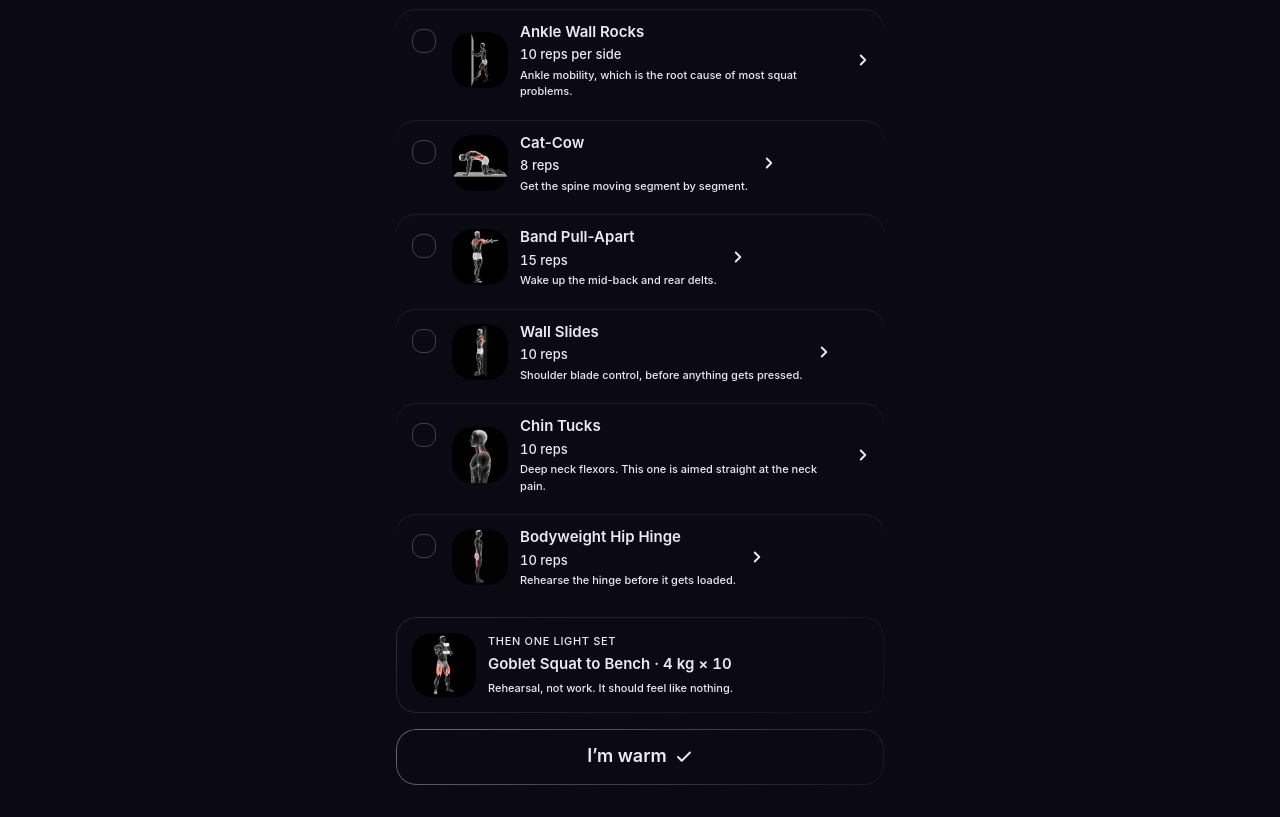
Test: working through an exercise › offers the second set after the rest
(page scrolled)
Click the button "I’m warm".
click(640, 757)  # box 396,729 -> 884,785
(page scrolled)
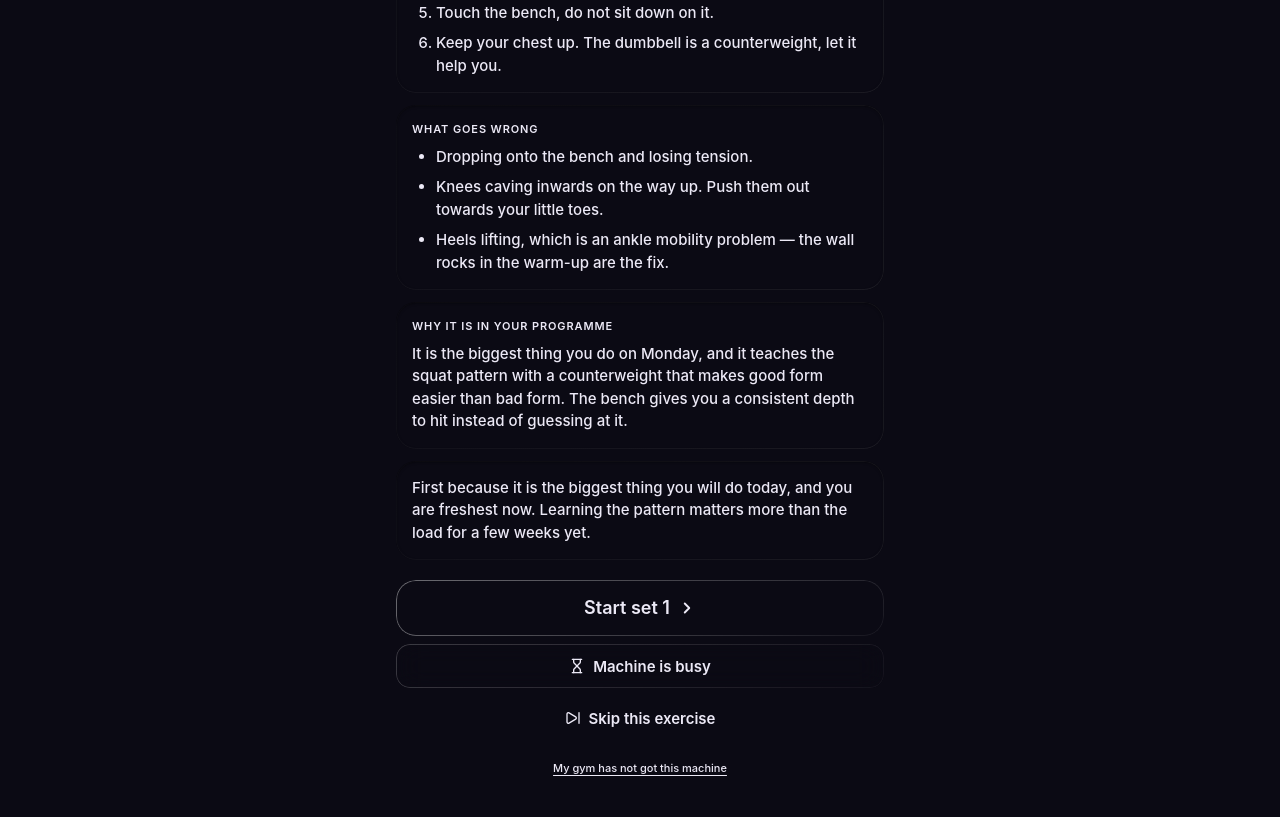
Click the button "Start set 1".
click(640, 608)  # box 396,580 -> 884,636
(page scrolled)
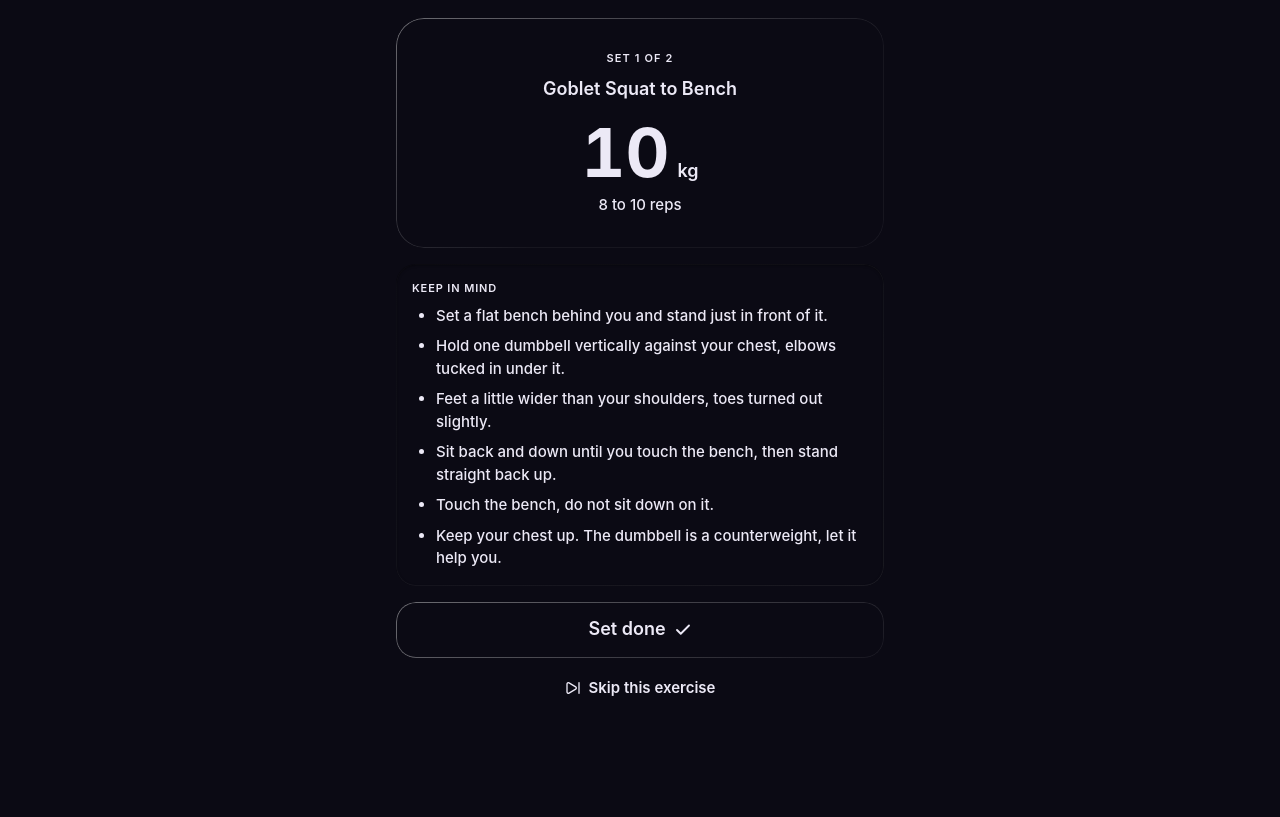
Click the button "Set done".
click(640, 630)  # box 396,602 -> 884,658
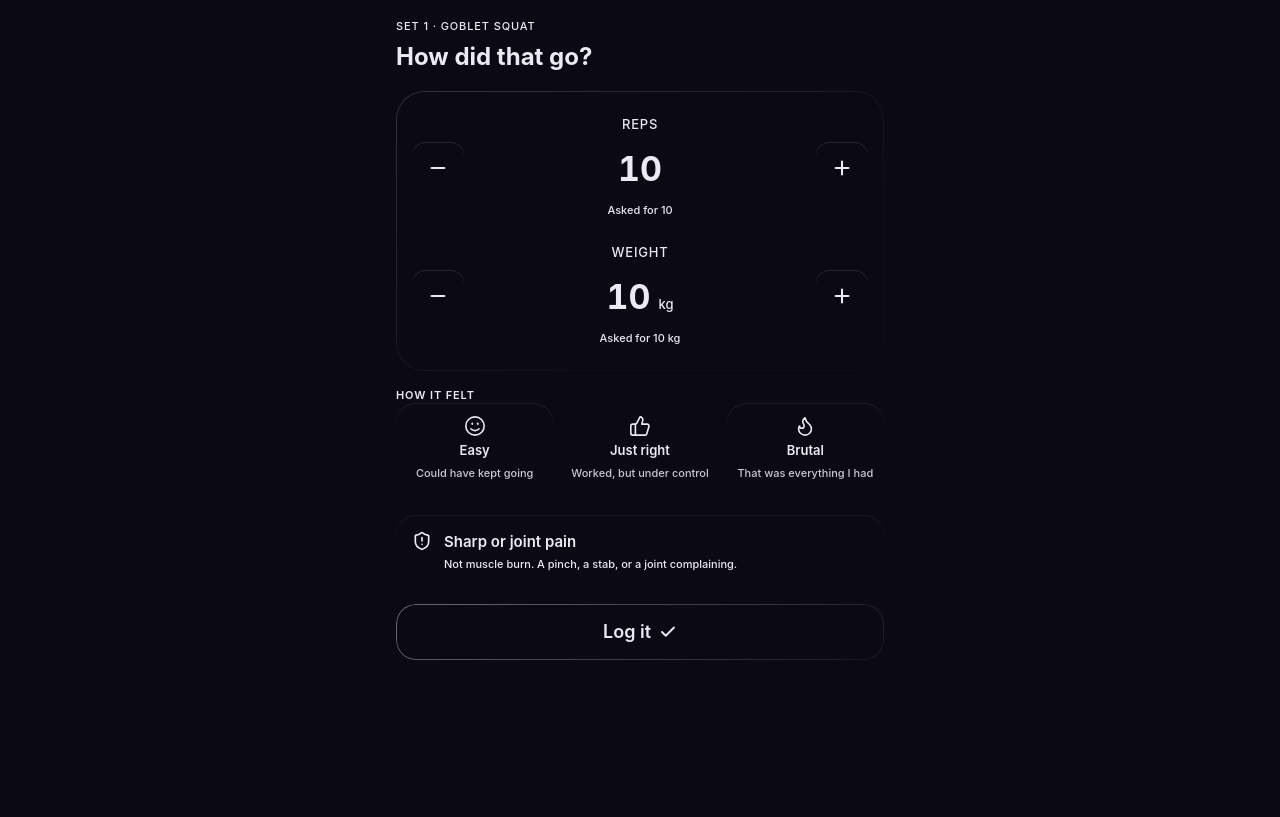
Click the button "Log it".
click(640, 632)  # box 396,604 -> 884,660
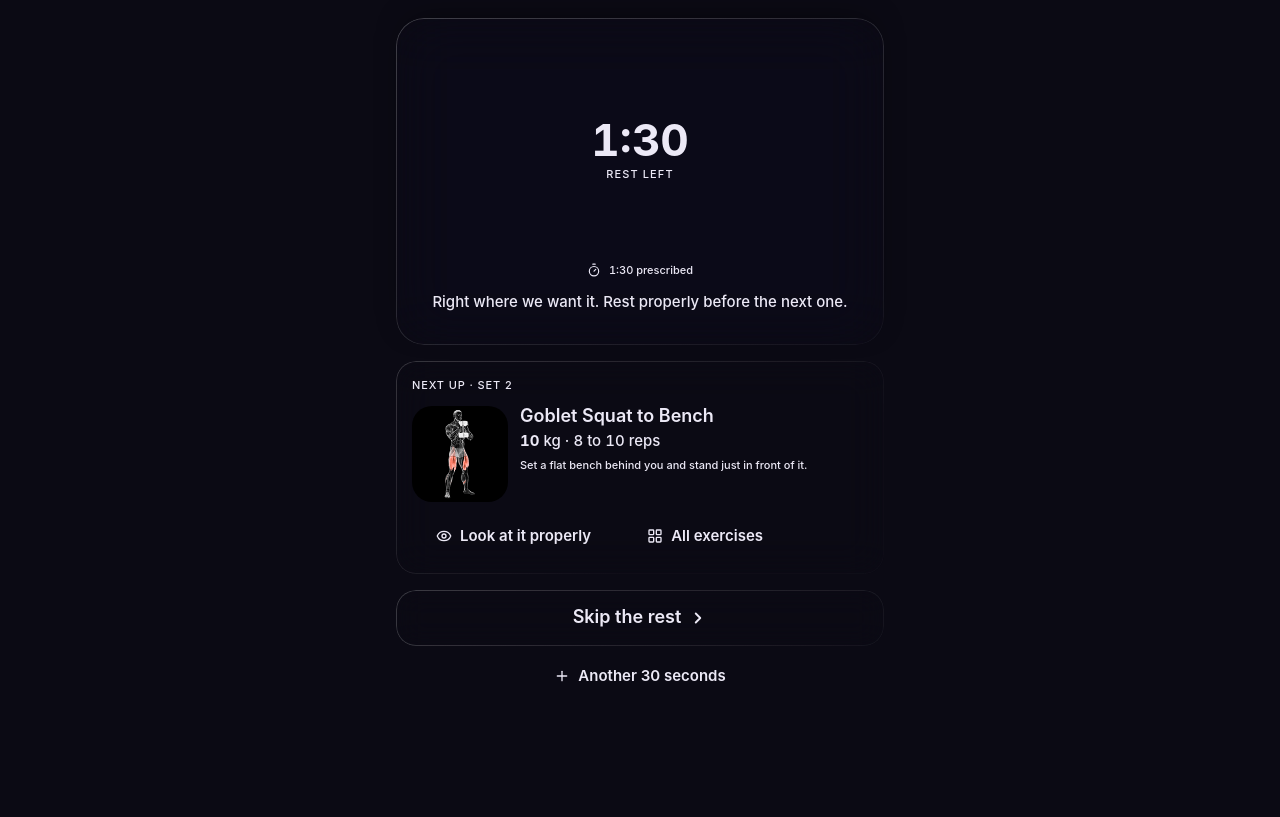
Click the button "Skip the rest".
click(640, 618)  # box 396,590 -> 884,646
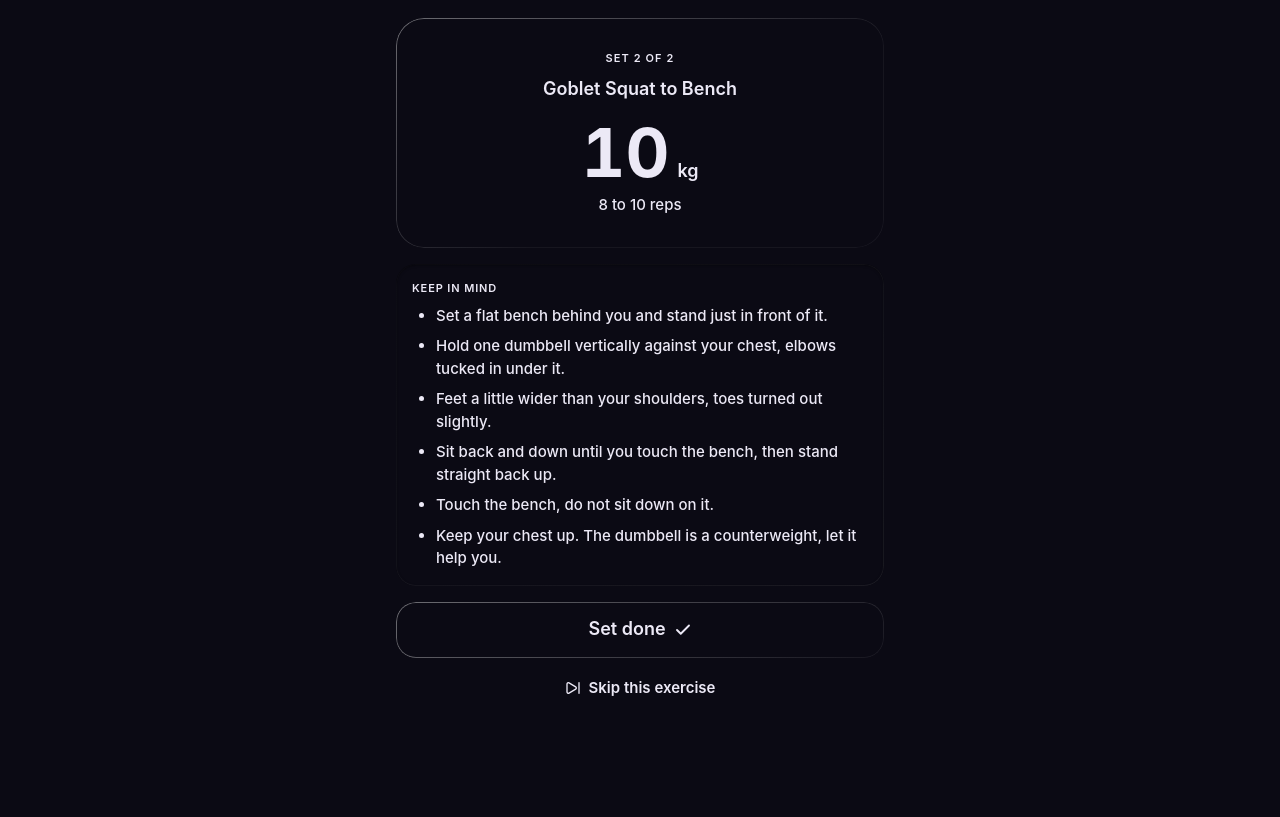
Expected: the text "Set 2 of 2" is shown, 606,50 -> 675,67
